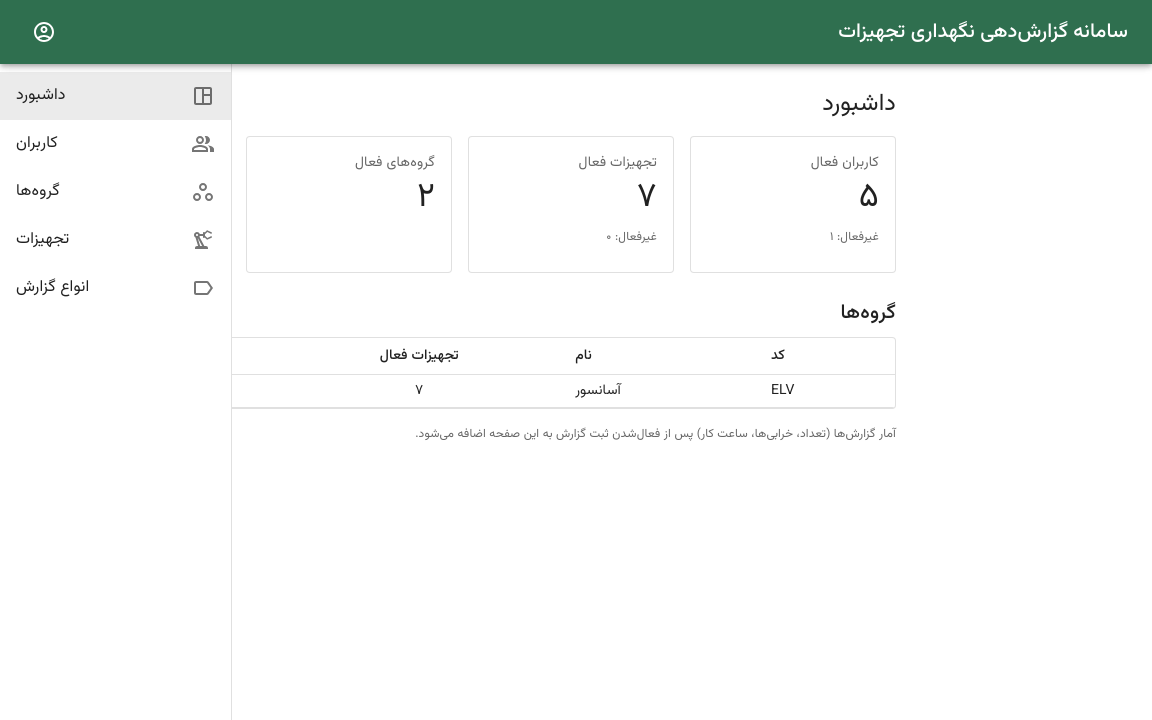
session bootstrap and route guards › AUDITOR: sees users/dashboard but not settings; cannot open /settings; no write buttons
Expected: the text "کاربران فعال" is shown, [811,152,879,174]
Click the link "کاربران": [37, 144] box [16,131,215,156]
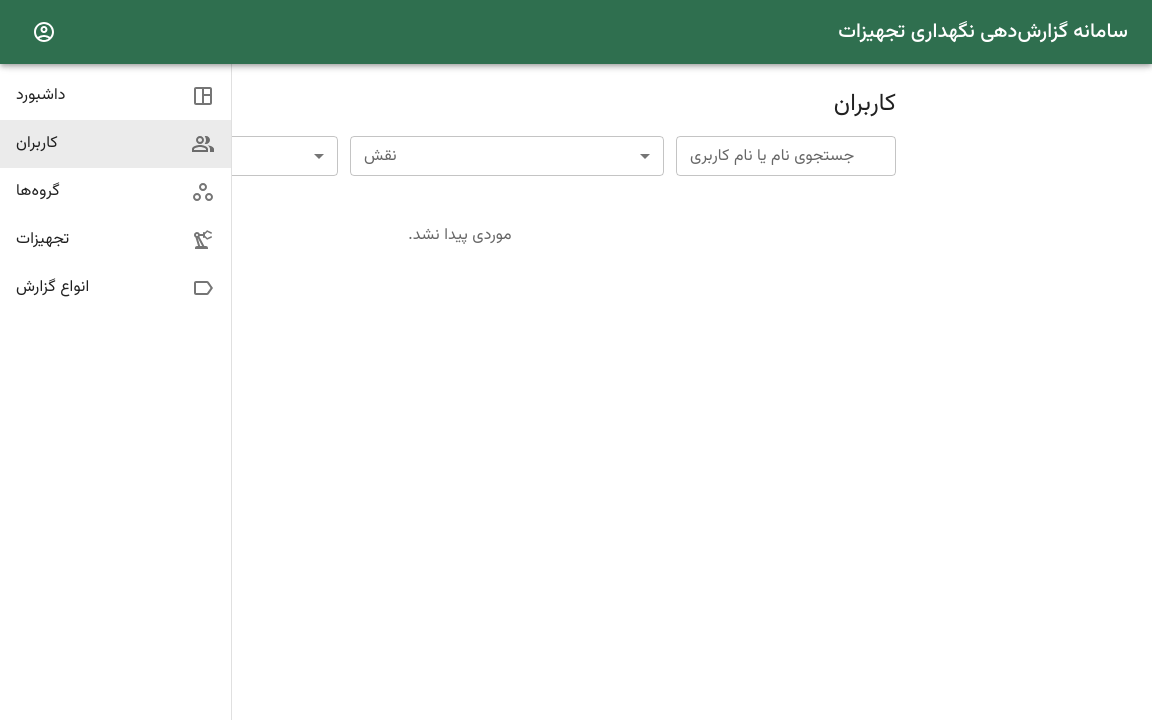
Now the heading "کاربران" is shown, box [834,88,896,120]
